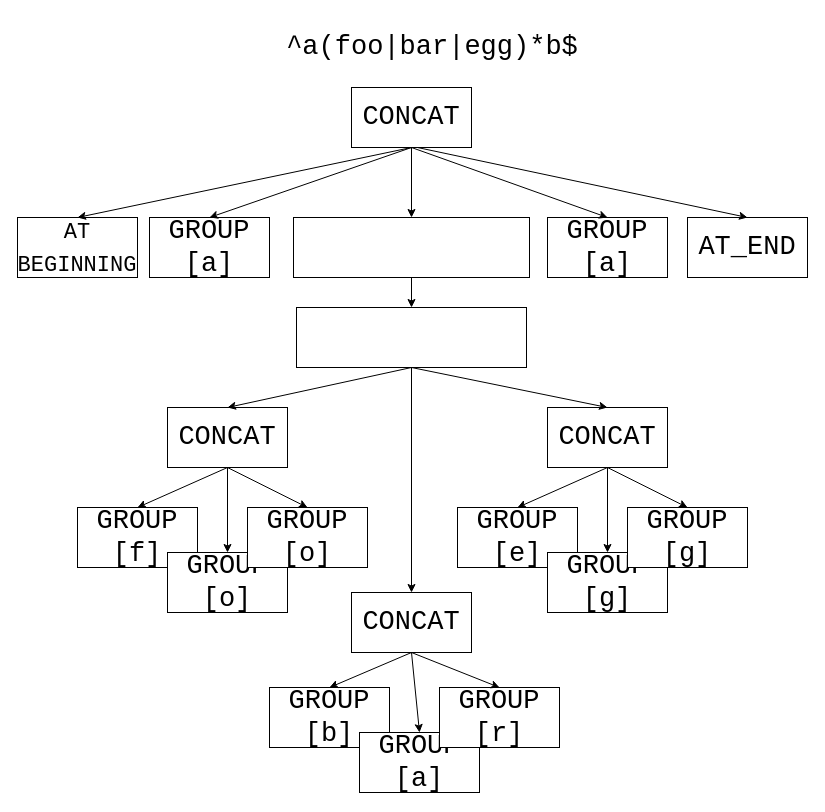
This 825x812 diagram has some shape labels left out. The centre of each missing label's shape, as x and y in pixels:
"ALTERNATIVE" goes at (411,337).
"REPEAT (min: 0, max: + ∞ )" goes at (411,247).
